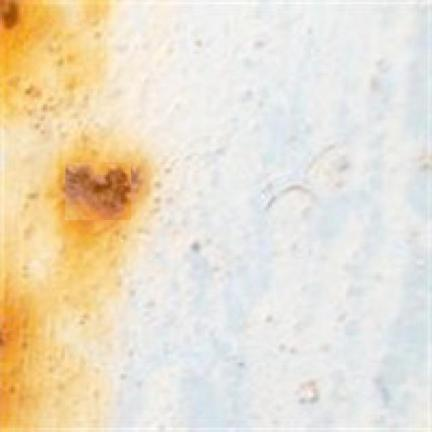besi_tidak_karat: (107, 6, 429, 431)
karat: (0, 128, 156, 431), (0, 0, 109, 119), (65, 163, 138, 220)
